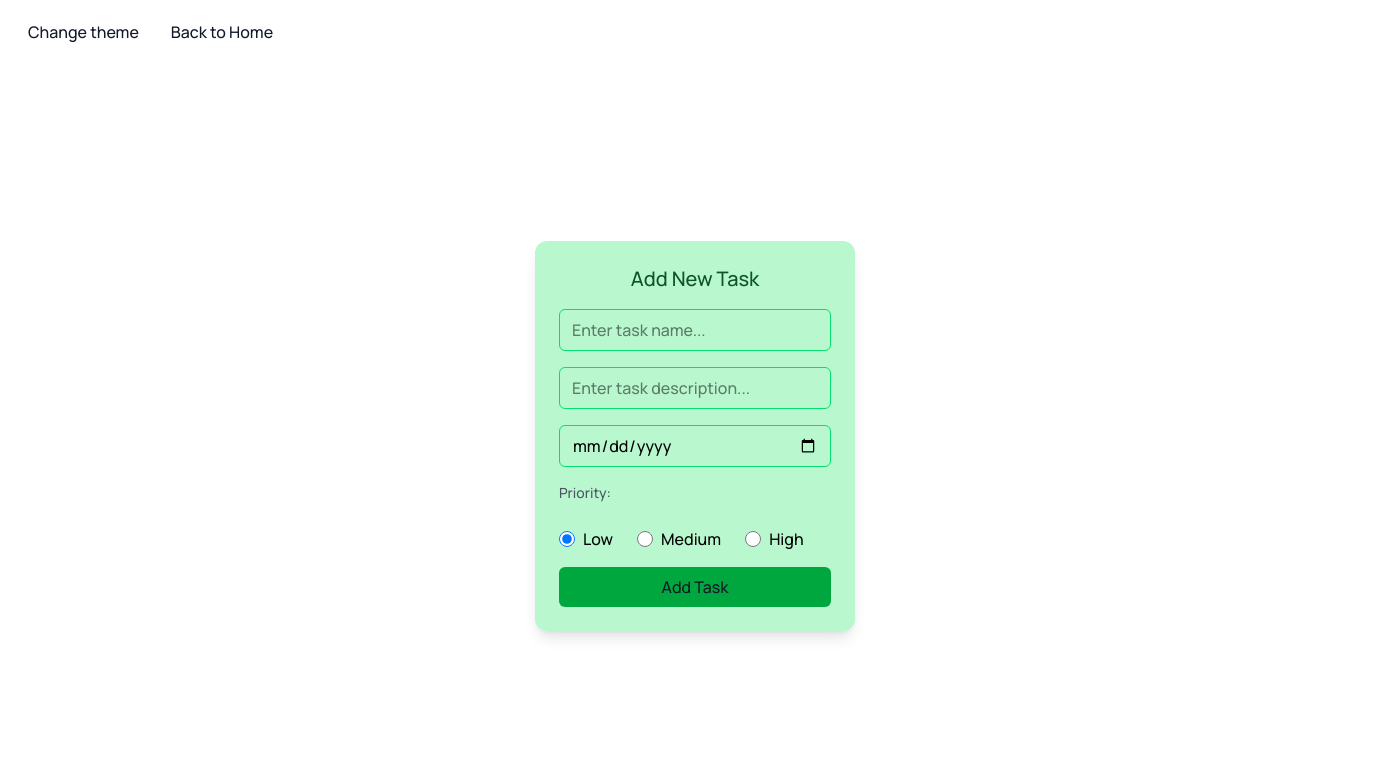
Test: AddNewTask POST request error › shows error notification when request fails
Note: Fill form
Type "Test Task" into the field with placeholder "Enter task name...".
click(695, 330); type("Test Task")  # box x1=559 y1=309 x2=831 y2=351
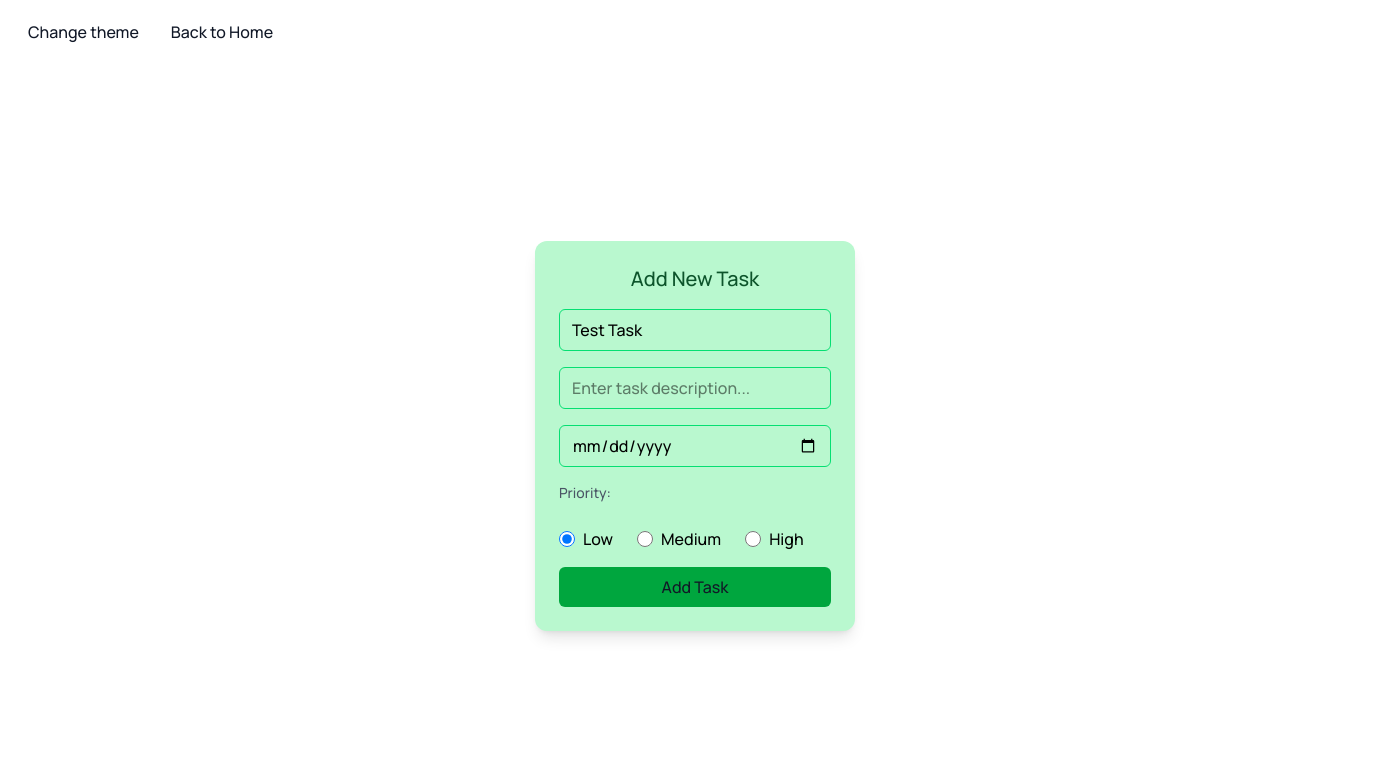
Type "Test Description" into the field with placeholder "Enter task description...".
click(695, 388); type("Test Description")  # box x1=559 y1=367 x2=831 y2=409
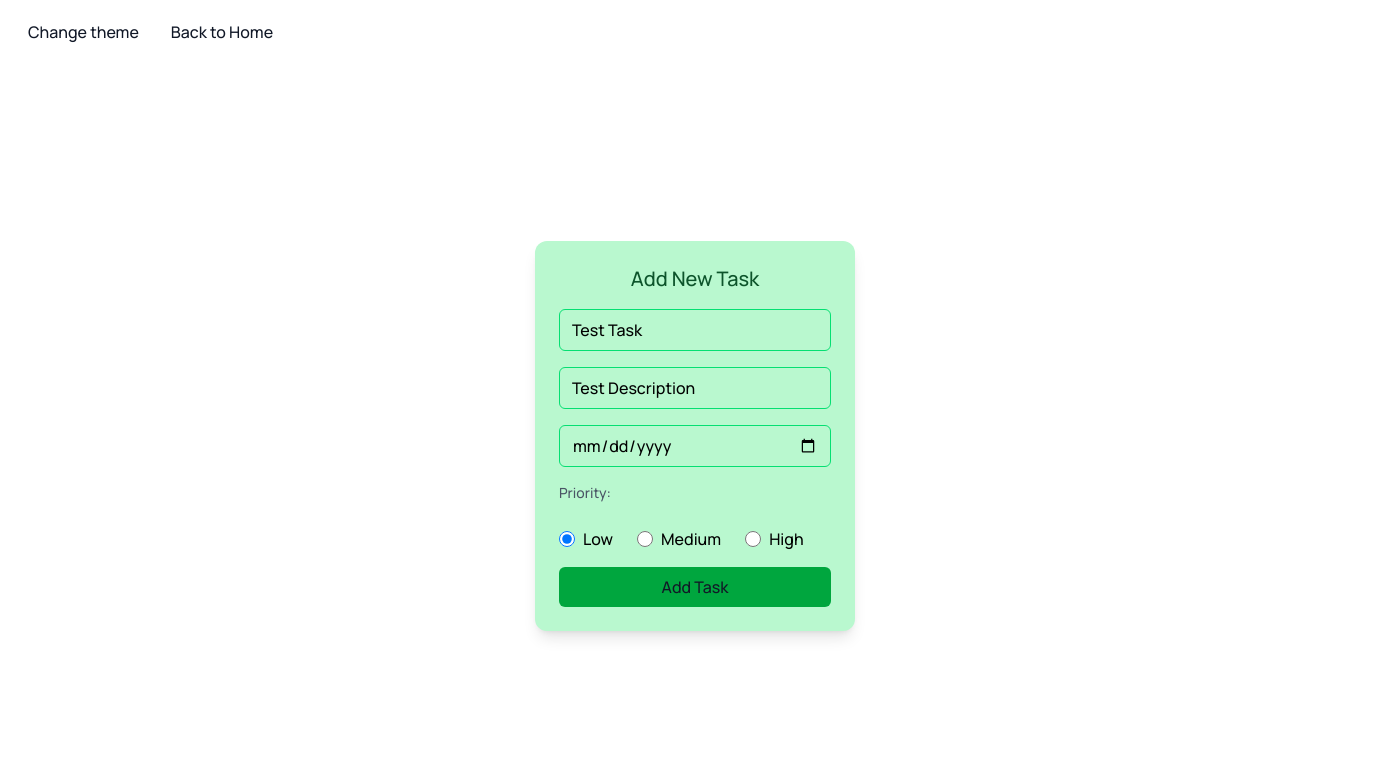
Type "2026-02-18" into the date field.
click(695, 446); type("2026-02-18")  # box x1=559 y1=425 x2=831 y2=467
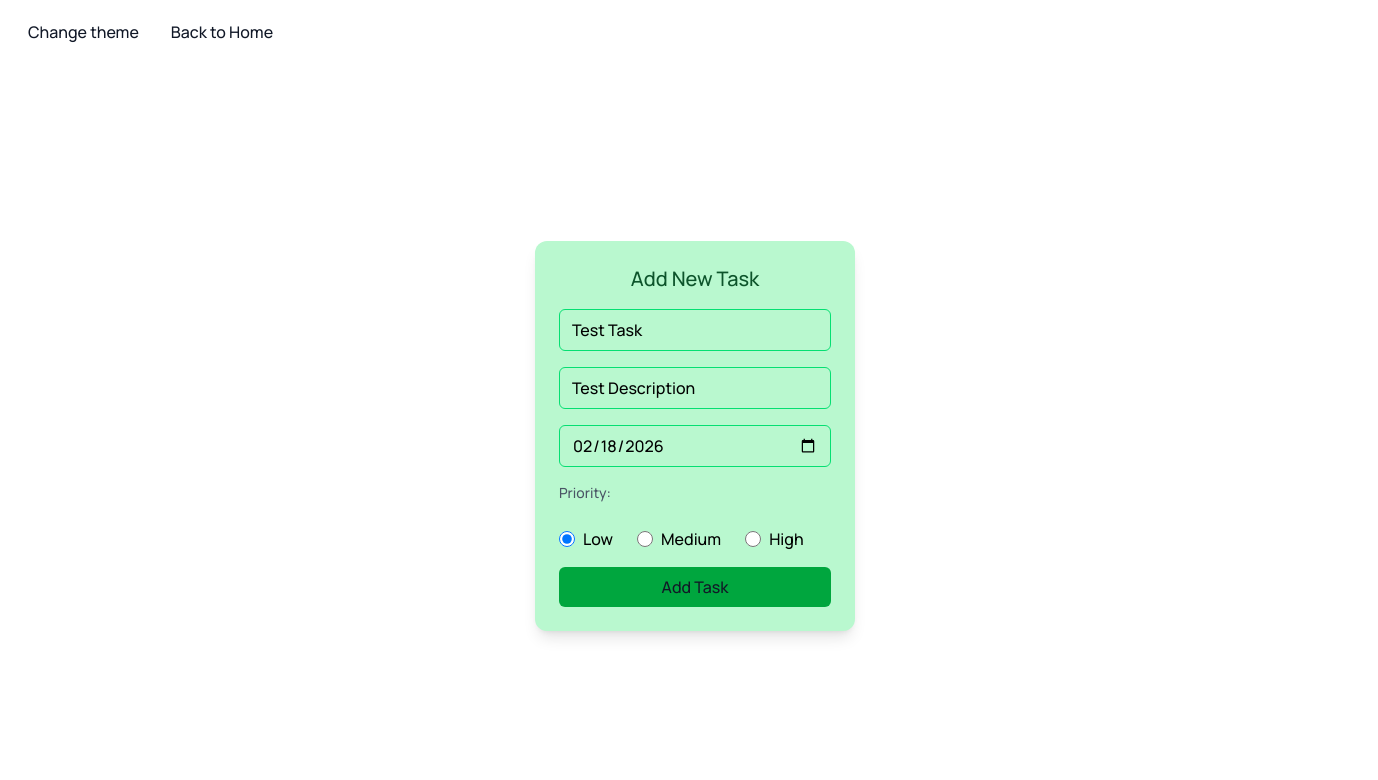
Click the button "Add Task".
click(695, 587)  # box x1=559 y1=567 x2=831 y2=607
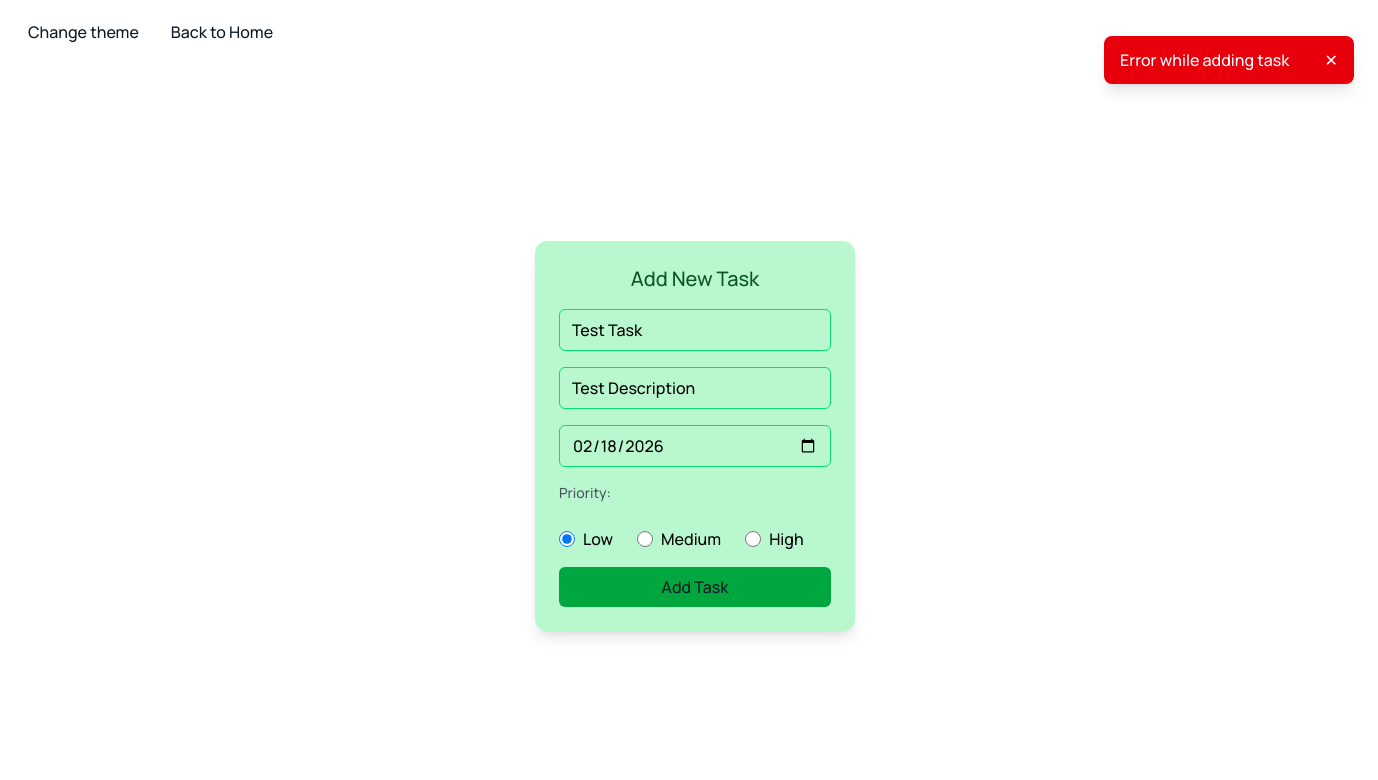
Now the text "Error while adding task" is shown, box x1=1120 y1=48 x2=1289 y2=72
